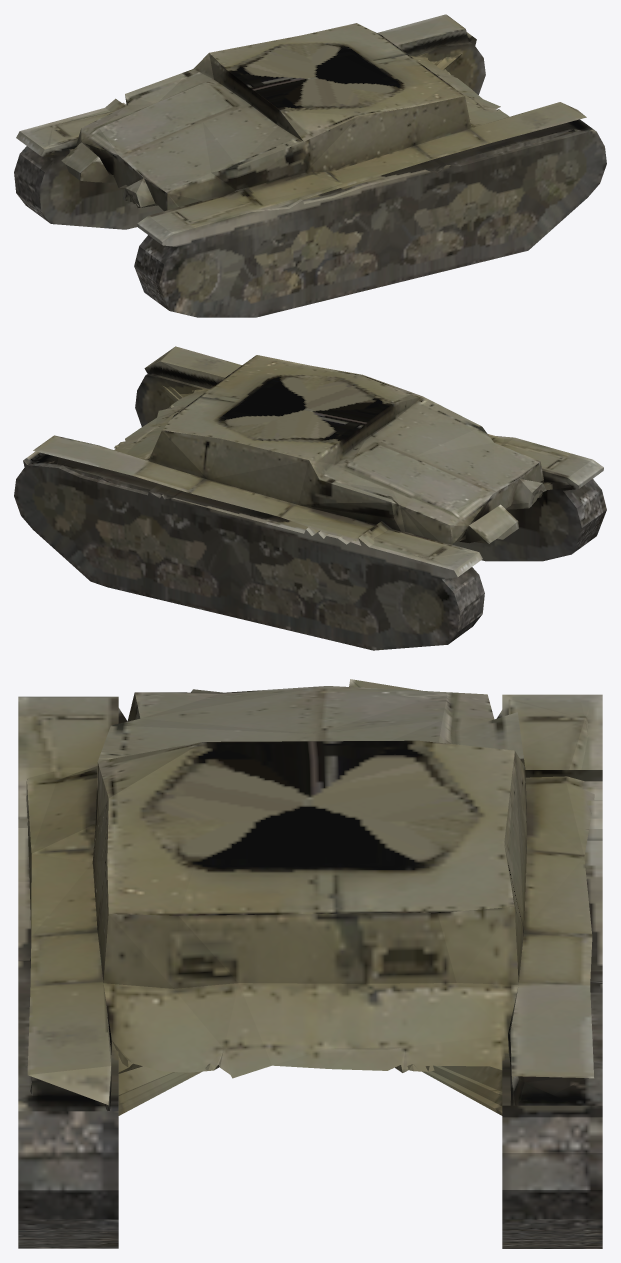
The model's file is hull.obj.
3 views of the same model, one above another, from view 1: azimuth 30°, elevation 25°; view 2: azimuth 150°, elevation 25°; view 3: azimuth 270°, elevation 25° (orthographic). The views are drawn at different scales.
Bounding box in the file's own units: 1.01 × 0.3375 × 0.57.
Materials: 1 (1 with a texture image).
